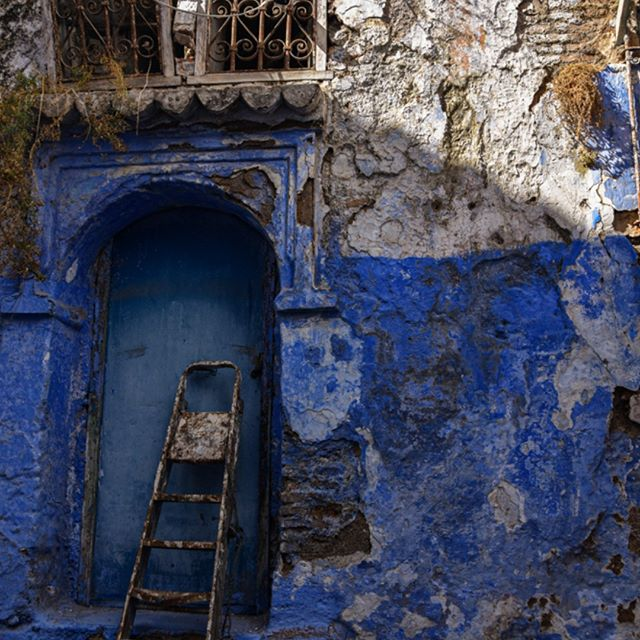door: (105, 220, 271, 606)
wall: (1, 1, 640, 640)
